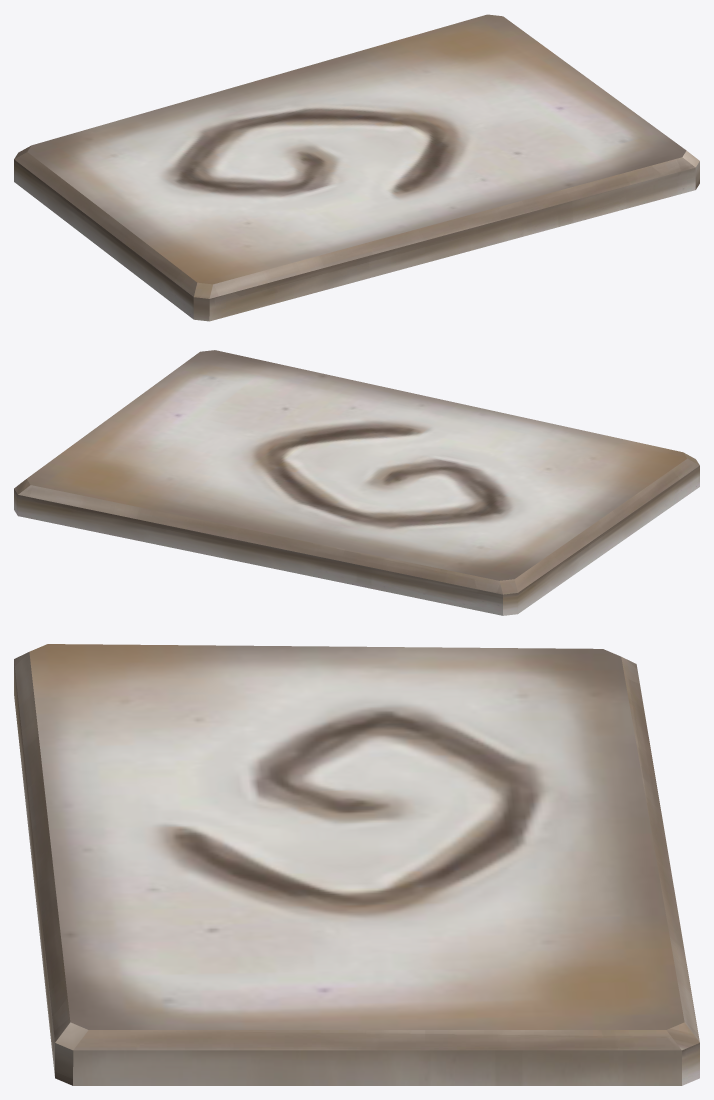
The model's file is 跳板fbx.fbx.
3 views of the same model, one above another, from view 1: azimuth 30°, elevation 25°; view 2: azimuth 150°, elevation 25°; view 3: azimuth 270°, elevation 25° (orthographic). The views are drawn at different scales.
Parts seen in each view (by area): view 1: 立方體; view 2: 立方體; view 3: 立方體.
Boxes of the visible parts, x1,y1,x2,y2 form: 立方體: (14,14,699,321); 立方體: (14,350,699,615); 立方體: (14,644,699,1085).
Bounding box in the file's own units: 836 × 48.3 × 607.
1 material, 1 textured.
